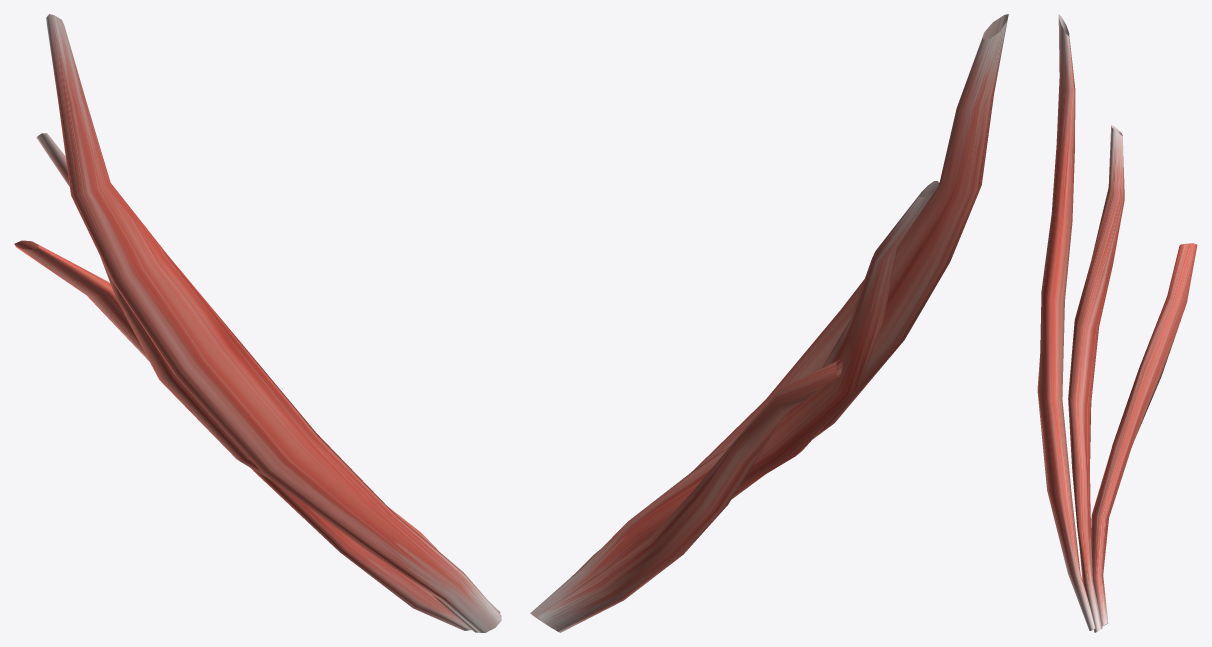
File: Scalenus_Anterior_Muscle_Left.obj
3 views of the same model, side by side, from view 1: azimuth 30°, elevation 25°; view 2: azimuth 150°, elevation 25°; view 3: azimuth 270°, elevation 25° (orthographic). The views are drawn at different scales.
Visible parts, largest first — view 1: Scalenus_Anterior_Muscle_Left_03:Scalenus_Anterior_Muscle_Left_0, Scalenus_Anterior_Muscle_Left_01:Scalenus_Anterior_Muscle_Left_0, Scalenus_Anterior_Muscle_Left_02:Scalenus_Anterior_Muscle_Left_0; view 2: Scalenus_Anterior_Muscle_Left_03:Scalenus_Anterior_Muscle_Left_0, Scalenus_Anterior_Muscle_Left_02:Scalenus_Anterior_Muscle_Left_0, Scalenus_Anterior_Muscle_Left_01:Scalenus_Anterior_Muscle_Left_0; view 3: Scalenus_Anterior_Muscle_Left_03:Scalenus_Anterior_Muscle_Left_0, Scalenus_Anterior_Muscle_Left_02:Scalenus_Anterior_Muscle_Left_0, Scalenus_Anterior_Muscle_Left_01:Scalenus_Anterior_Muscle_Left_0.
Part boxes in pixels (x1,y1,x2,y2): Scalenus_Anterior_Muscle_Left_03:Scalenus_Anterior_Muscle_Left_0: (46,14,501,632); Scalenus_Anterior_Muscle_Left_01:Scalenus_Anterior_Muscle_Left_0: (14,240,471,630); Scalenus_Anterior_Muscle_Left_02:Scalenus_Anterior_Muscle_Left_0: (36,133,500,632); Scalenus_Anterior_Muscle_Left_03:Scalenus_Anterior_Muscle_Left_0: (571,14,1008,576); Scalenus_Anterior_Muscle_Left_02:Scalenus_Anterior_Muscle_Left_0: (530,181,938,628); Scalenus_Anterior_Muscle_Left_01:Scalenus_Anterior_Muscle_Left_0: (537,360,842,632); Scalenus_Anterior_Muscle_Left_03:Scalenus_Anterior_Muscle_Left_0: (1037,14,1095,630); Scalenus_Anterior_Muscle_Left_02:Scalenus_Anterior_Muscle_Left_0: (1068,125,1124,632); Scalenus_Anterior_Muscle_Left_01:Scalenus_Anterior_Muscle_Left_0: (1091,243,1197,626).
Size of the model in its own units: 0.6299 by 0.9364 by 0.2854.
